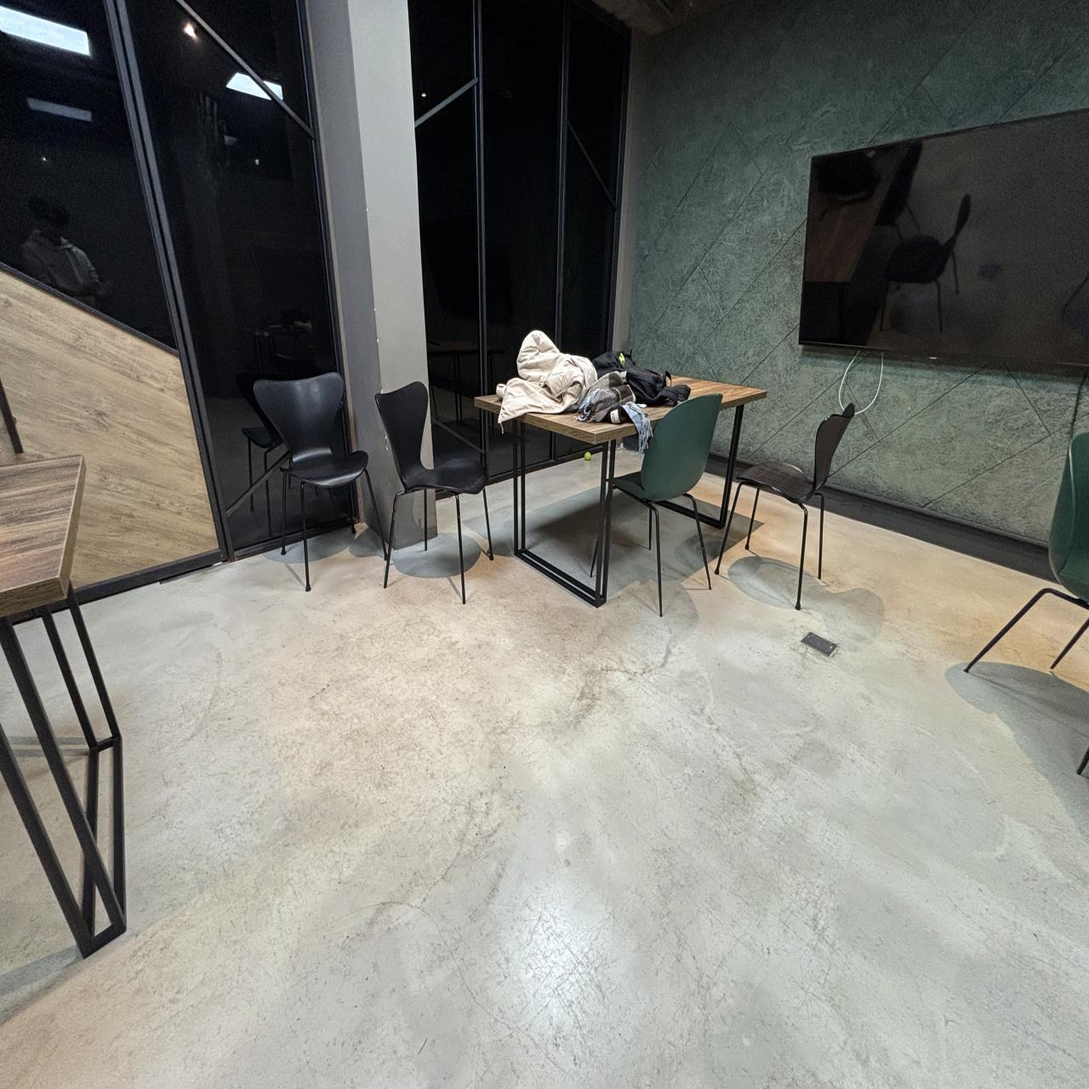tennisball: (584, 451, 591, 461)
